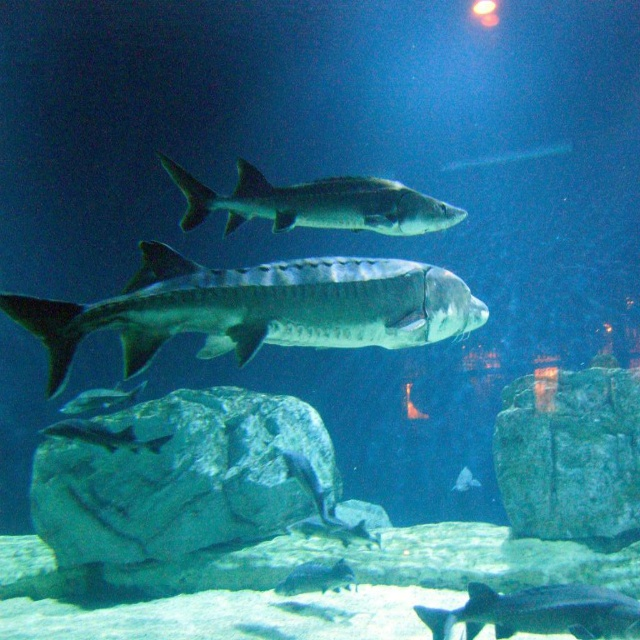Shark: (0, 235, 486, 396), (158, 151, 466, 235)
